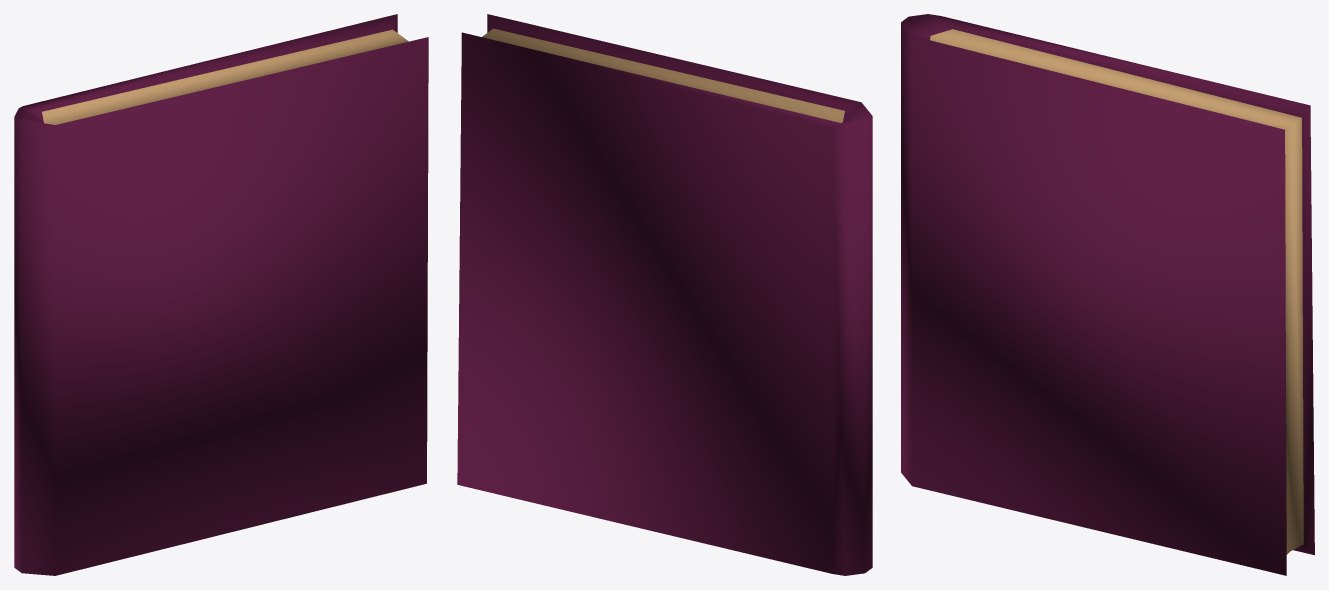
File: book007.fbx
3 views of the same model, side by side, from view 1: azimuth 30°, elevation 25°; view 2: azimuth 150°, elevation 25°; view 3: azimuth 330°, elevation 25° (orthographic).
Visible parts, largest first — view 1: Book Variation 007; view 2: Book Variation 007; view 3: Book Variation 007.
Part boxes in pixels (x1,y1,x2,y2): Book Variation 007: [14, 14, 428, 575]; Book Variation 007: [457, 14, 872, 575]; Book Variation 007: [901, 14, 1314, 575].
Bounding box in the file's own units: 0.3309 × 0.3604 × 0.0443.
